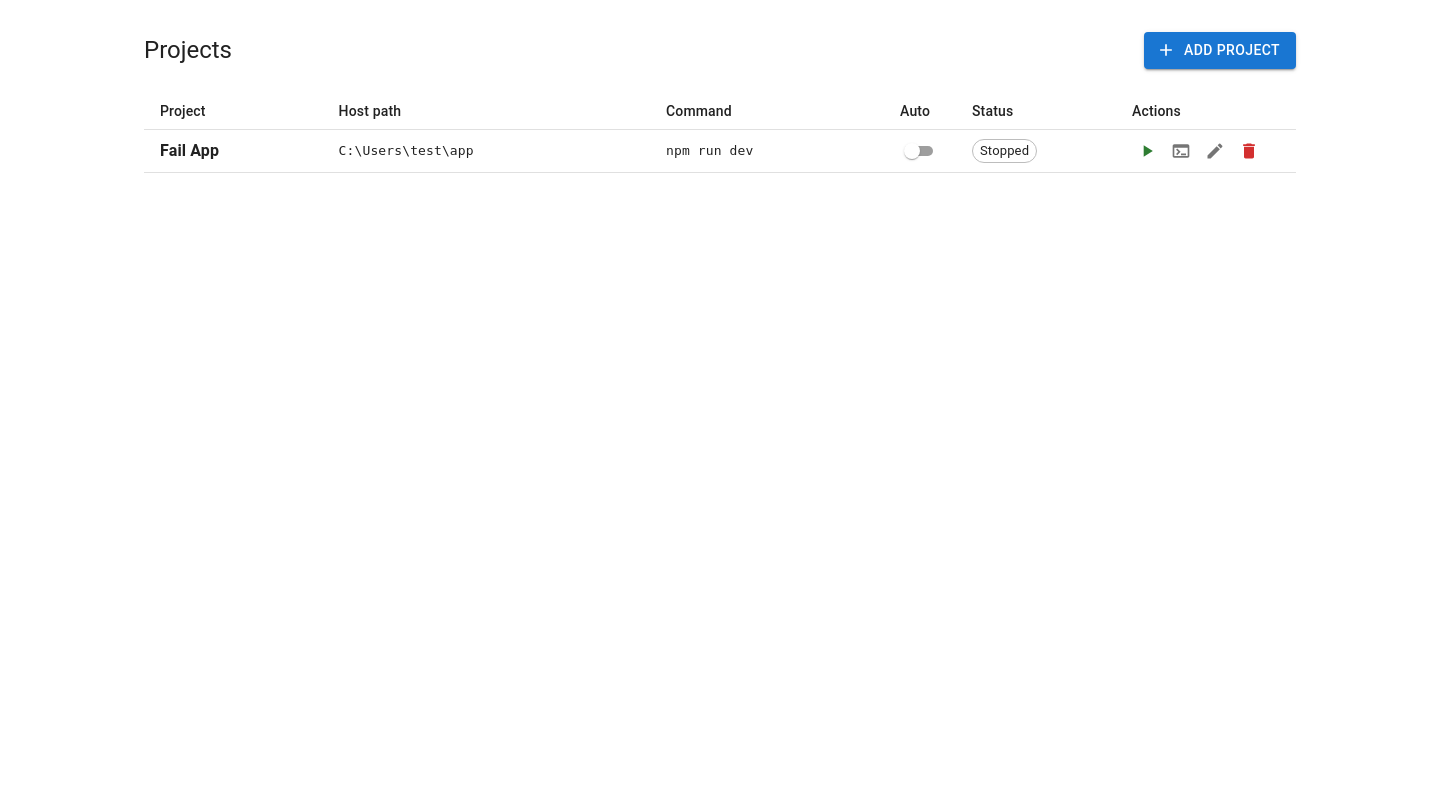
Test case: ProjectRegistryPage › lifecycle controls › shows lifecycle error in snackbar on start failure
Expected: the text "Fail App" is shown, x1=160 y1=140 x2=219 y2=160
Click the button named "start fail app". click: [1147, 150]
box: x1=1132 y1=136 x2=1162 y2=166
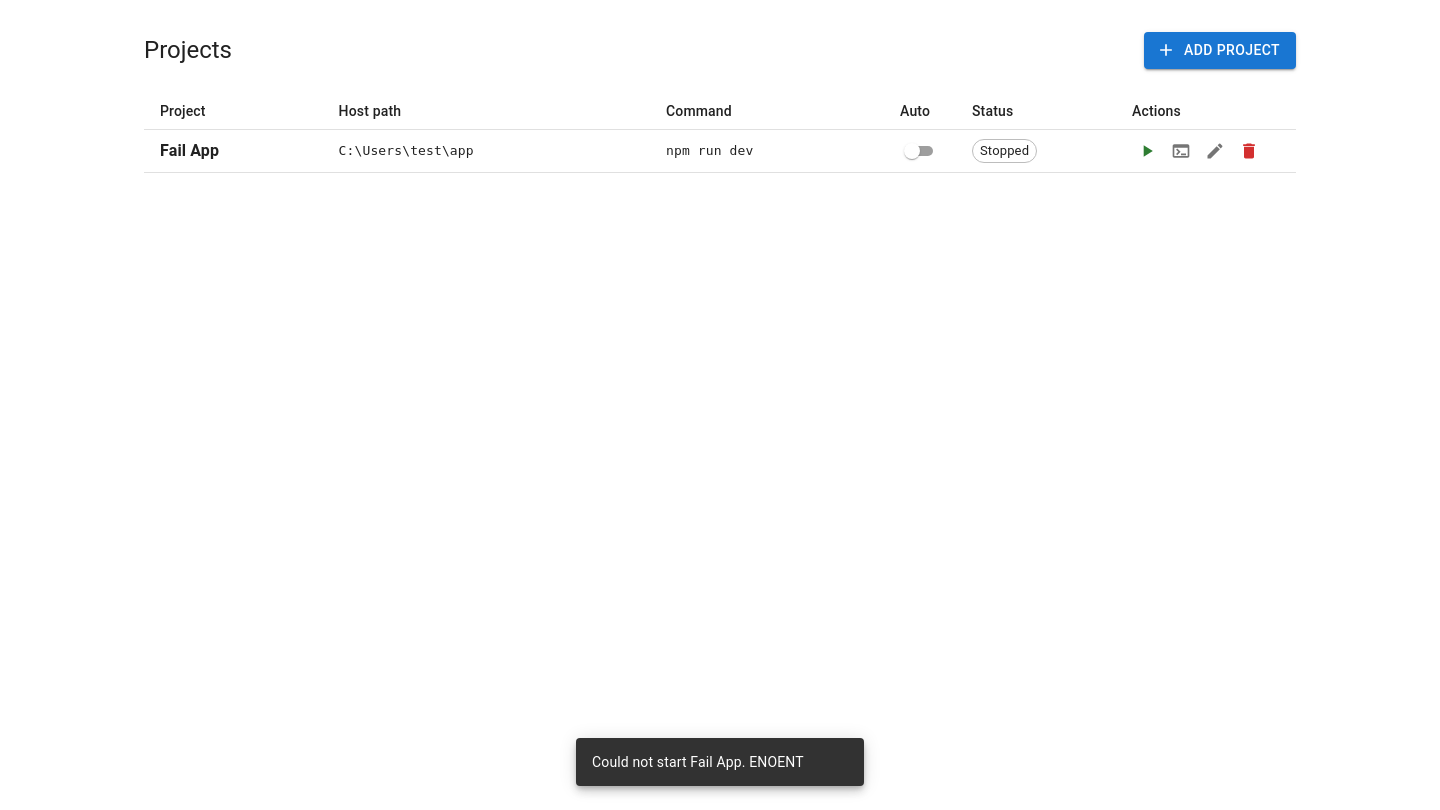
Now the text "Could not start Fail App. ENOENT" is shown, box x1=592 y1=754 x2=804 y2=770
